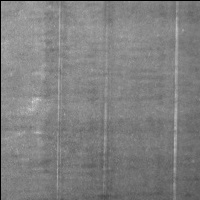scratches: (168, 3, 183, 197)
